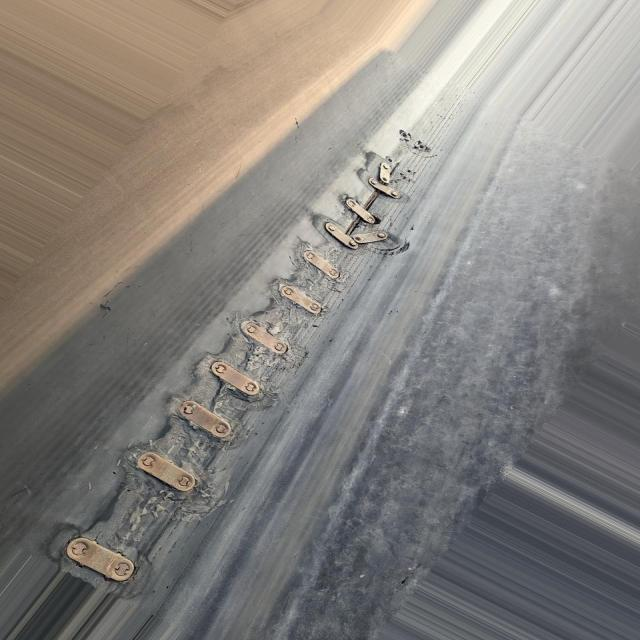patch work: (43, 127, 445, 598)
